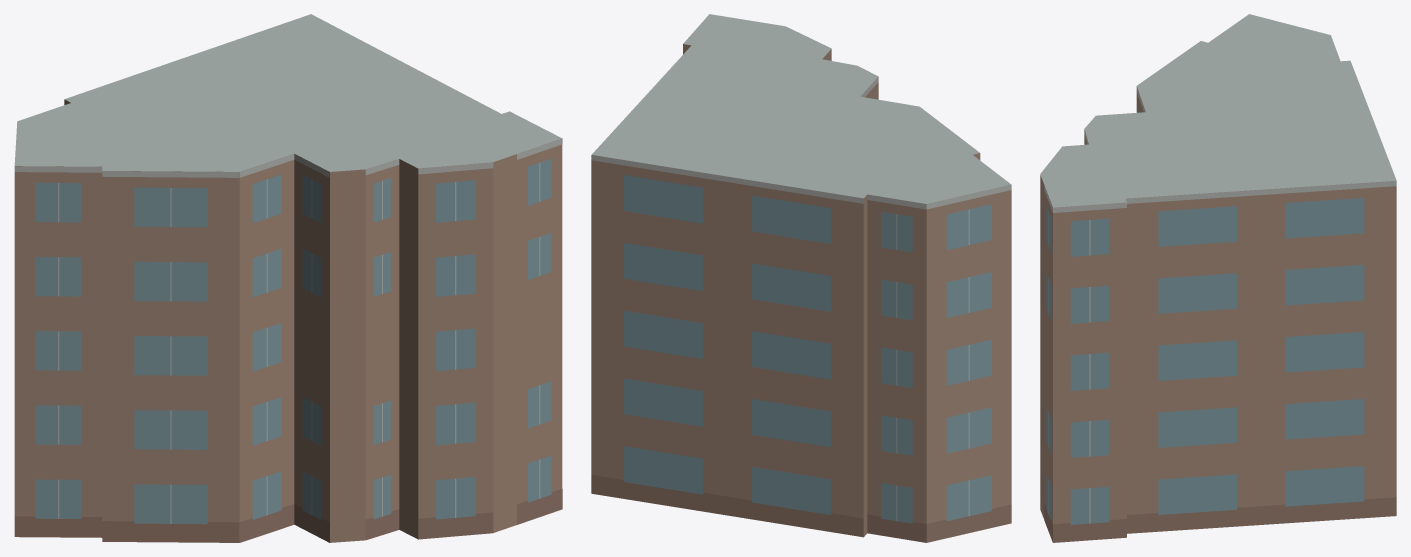
File: survey-upis-32576808.glb
3 renders of one model, left to right at view 1: azimuth 30°, elevation 25°; view 2: azimuth 150°, elevation 25°; view 3: azimuth 270°, elevation 25°, orthographic. The views are drawn at different scales.
Parts seen in each view (by area): view 1: survey-upis-32576808.tmp; view 2: survey-upis-32576808.tmp; view 3: survey-upis-32576808.tmp.
Boxes of the visible parts, x1,y1,x2,y2 form: survey-upis-32576808.tmp: (14,14,562,542); survey-upis-32576808.tmp: (591,14,1011,542); survey-upis-32576808.tmp: (1040,14,1396,542).
Size of the model in its own units: 18.72 by 15.1 by 14.57.
